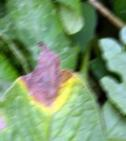Tomato Early blight leaf: (0, 39, 126, 141)
